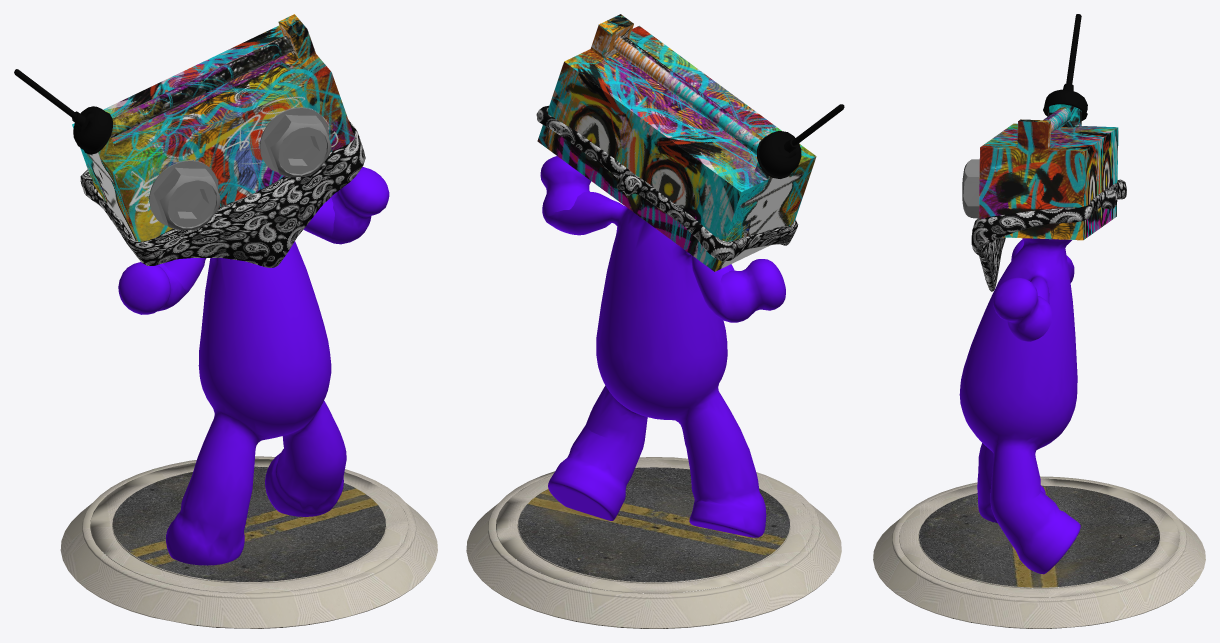
3 views of the same model, side by side, from view 1: azimuth 30°, elevation 25°; view 2: azimuth 150°, elevation 25°; view 3: azimuth 270°, elevation 25° (orthographic). The views are drawn at different scales.
Parts seen in each view (by area): view 1: BBody; view 2: BBody; view 3: BBody.
Boxes of the visible parts, x1=… form: BBody: x1=14, y1=14, x2=437, y2=628; BBody: x1=466, y1=14, x2=844, y2=628; BBody: x1=873, y1=14, x2=1205, y2=628.
Bounding box in the file's own units: 1.66 × 2.2 × 1.45.
7 materials, 4 textured.
